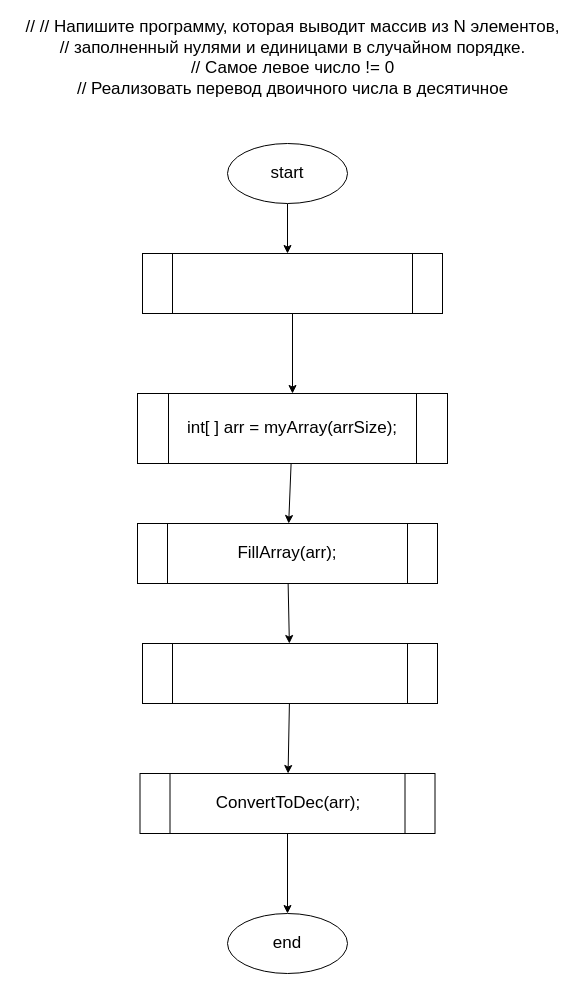
Some shapes in this 584 by 991 pixel diagram are drawn without their labels. The shapes that lost their labels are listed below. From the top down, each one's centre as x and y in pixels, then its label:
At pixel 292 283: "int arrSize = GetArraySize();".
At pixel 290 673: "PrintArray(arr)".
